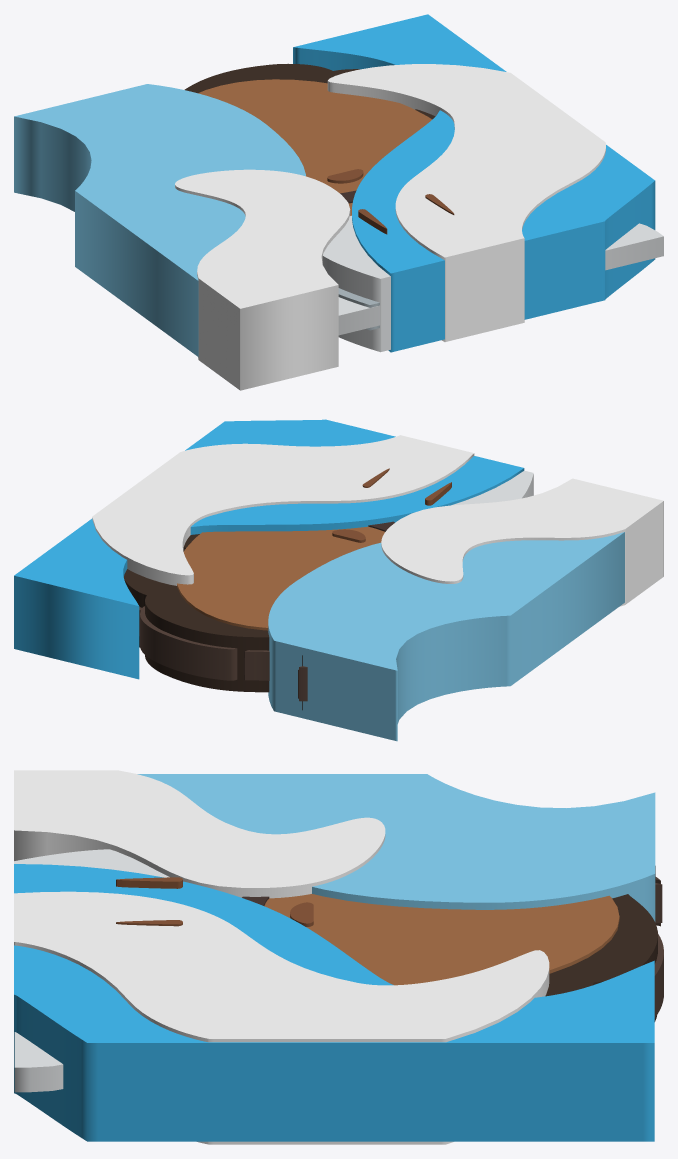
The model's file is emoji_u1f9d6_1f3fe.glb.
3 views of the same model, one above another, from view 1: azimuth 30°, elevation 25°; view 2: azimuth 150°, elevation 25°; view 3: azimuth 270°, elevation 25° (orthographic). The views are drawn at different scales.
Visible parts, largest first — view 1: emoji_u1f9d6_1f3fe; view 2: emoji_u1f9d6_1f3fe; view 3: emoji_u1f9d6_1f3fe.
Boxes of the visible parts, left/top/right/bottom form: emoji_u1f9d6_1f3fe: left=14, top=14, right=663, bottom=390; emoji_u1f9d6_1f3fe: left=14, top=419, right=663, bottom=741; emoji_u1f9d6_1f3fe: left=14, top=770, right=663, bottom=1144.
Bounding box in the file's own units: 0.033 × 0.0064 × 0.0334.
